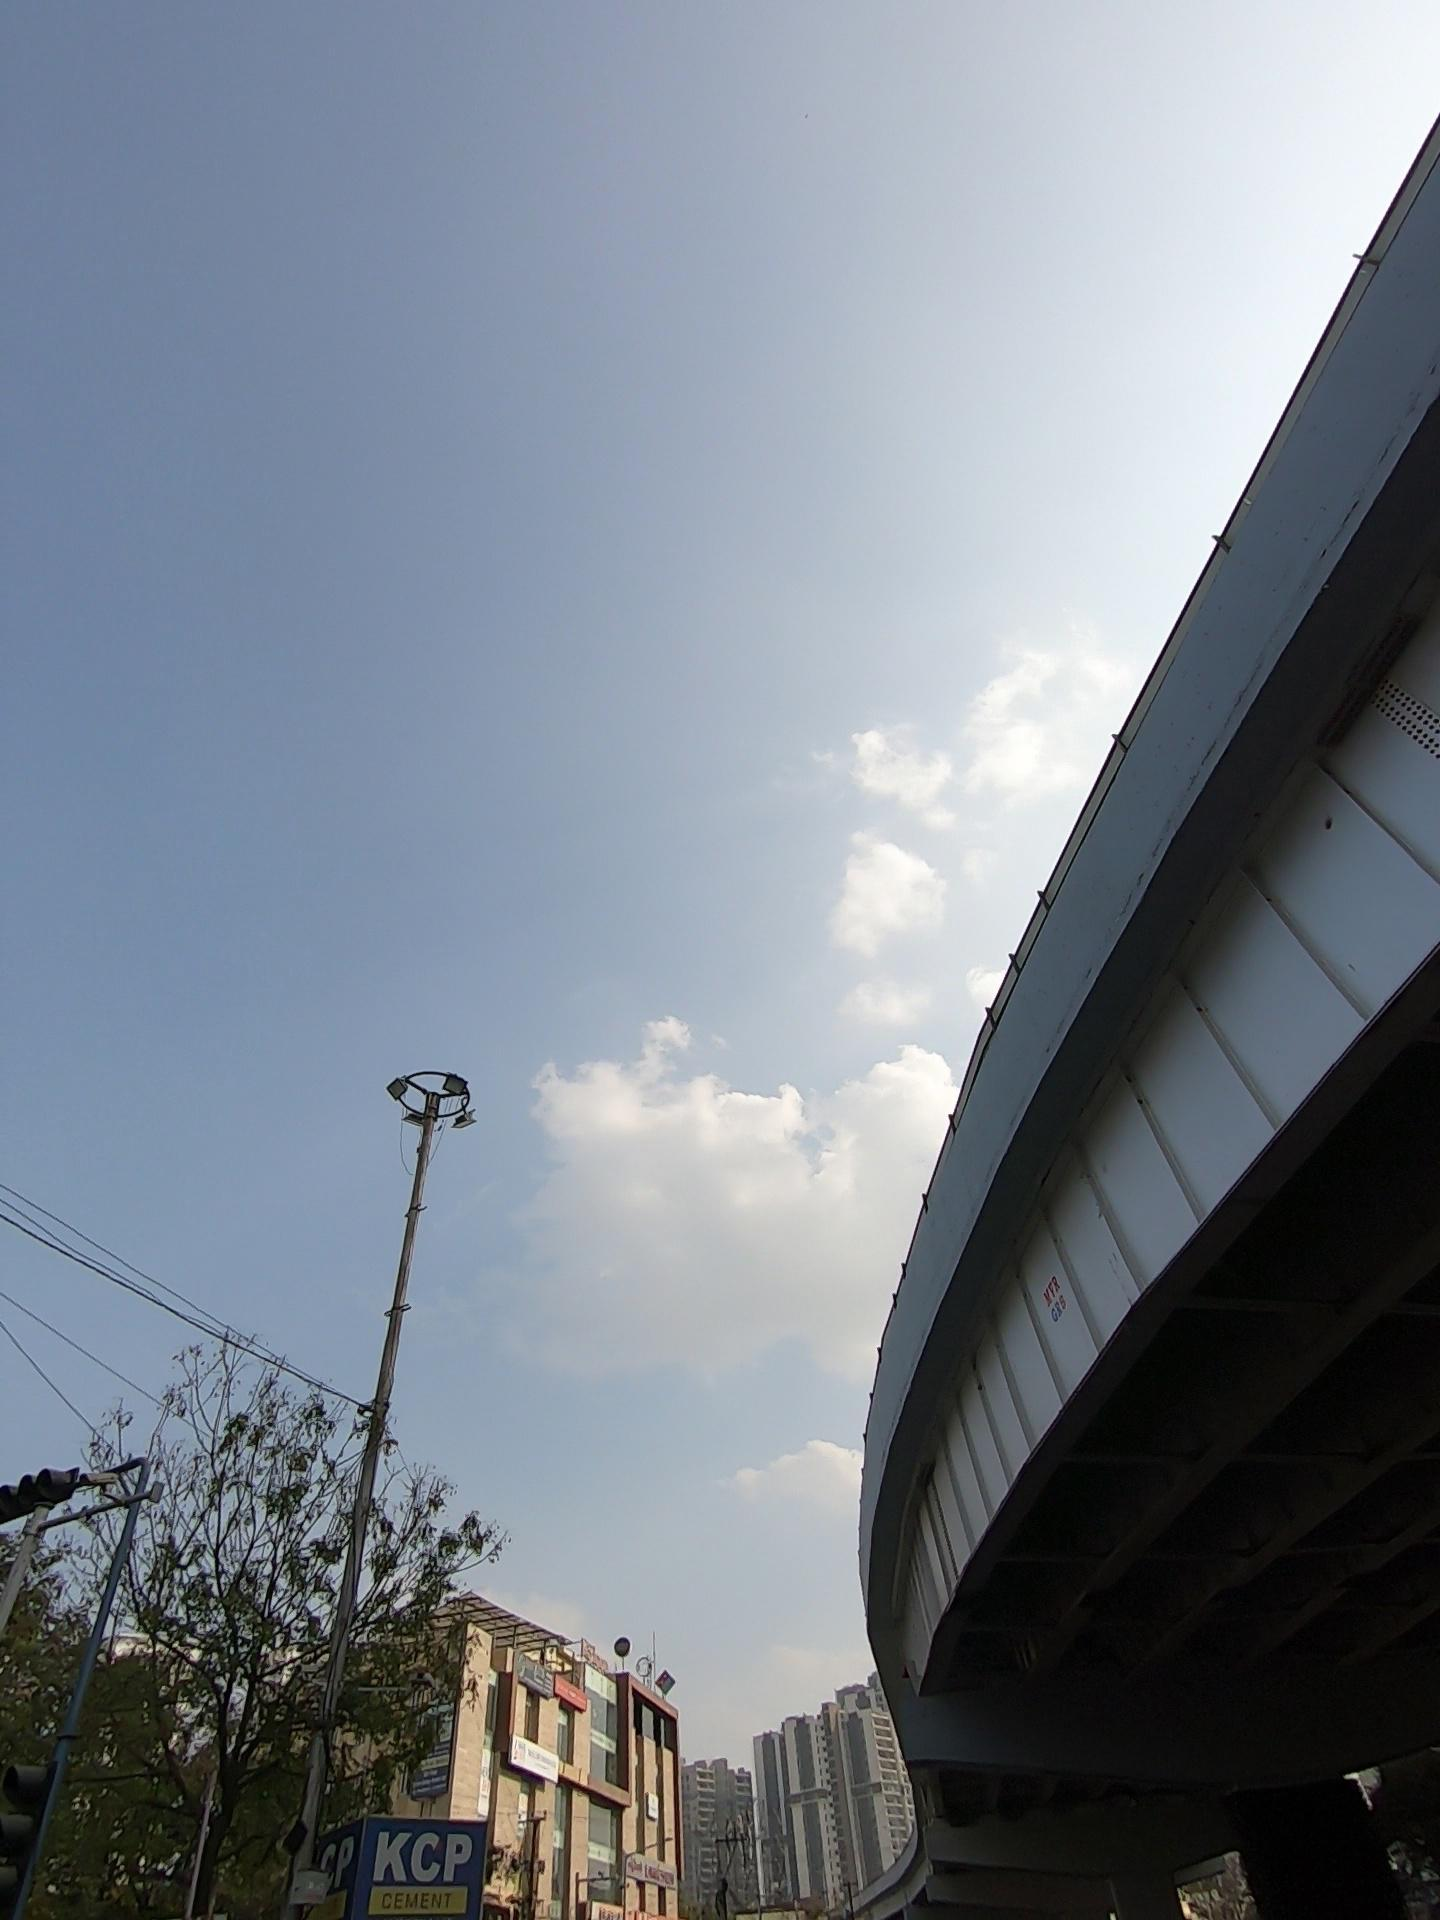off: (360, 992, 587, 1240)
